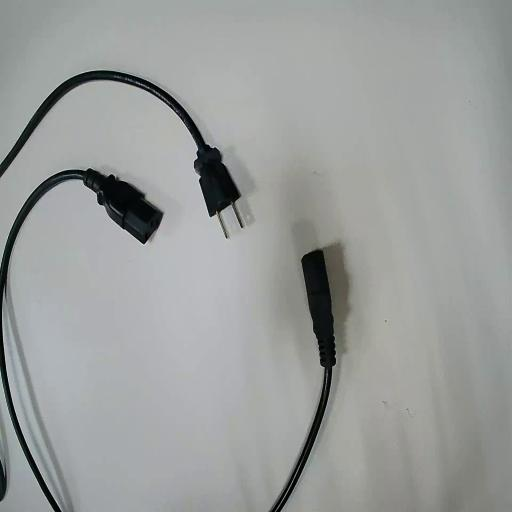wire: (0, 169, 161, 511), (0, 71, 239, 214), (271, 250, 335, 511)
